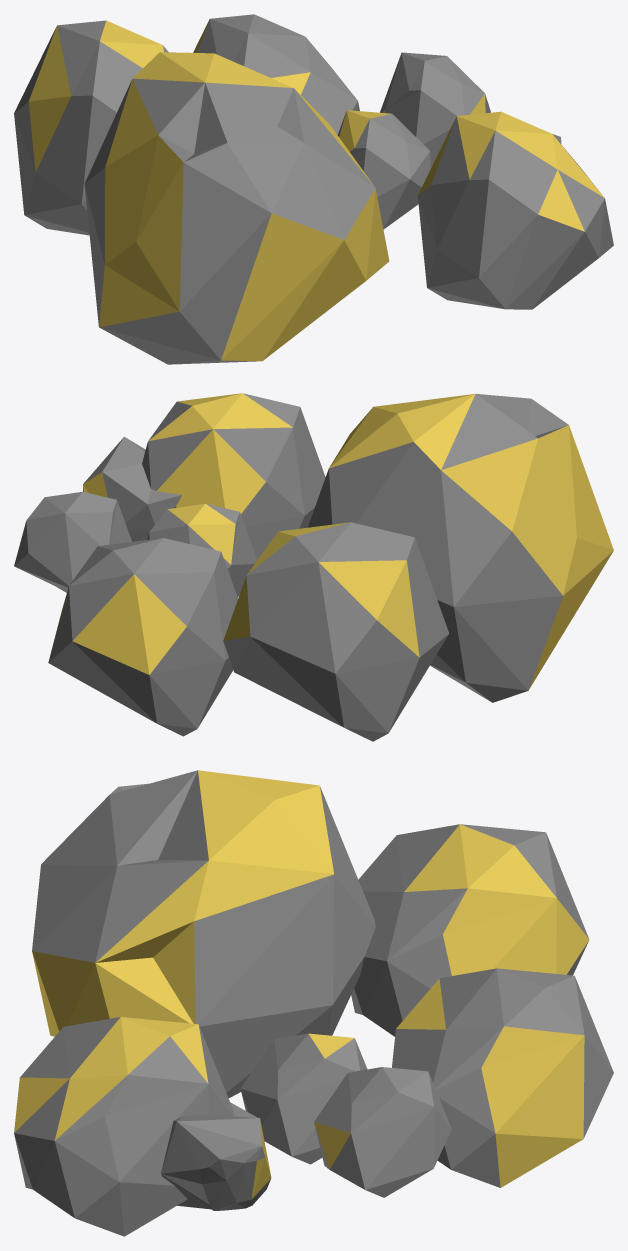
The model's file is gold.glb.
The picture shows the model from 3 angles, top to bottom: view 1: azimuth 30°, elevation 25°; view 2: azimuth 150°, elevation 25°; view 3: azimuth 270°, elevation 25°; orthographic projection. The views are drawn at different scales.
Visible parts, largest first — view 1: gold; view 2: gold; view 3: gold.
Part boxes in pixels (left/top/right/bottom): gold: left=14, top=14, right=613, bottom=364; gold: left=14, top=393, right=613, bottom=741; gold: left=14, top=770, right=613, bottom=1236.
Bounding box in the file's own units: 0.8824 × 0.4918 × 0.8669.
